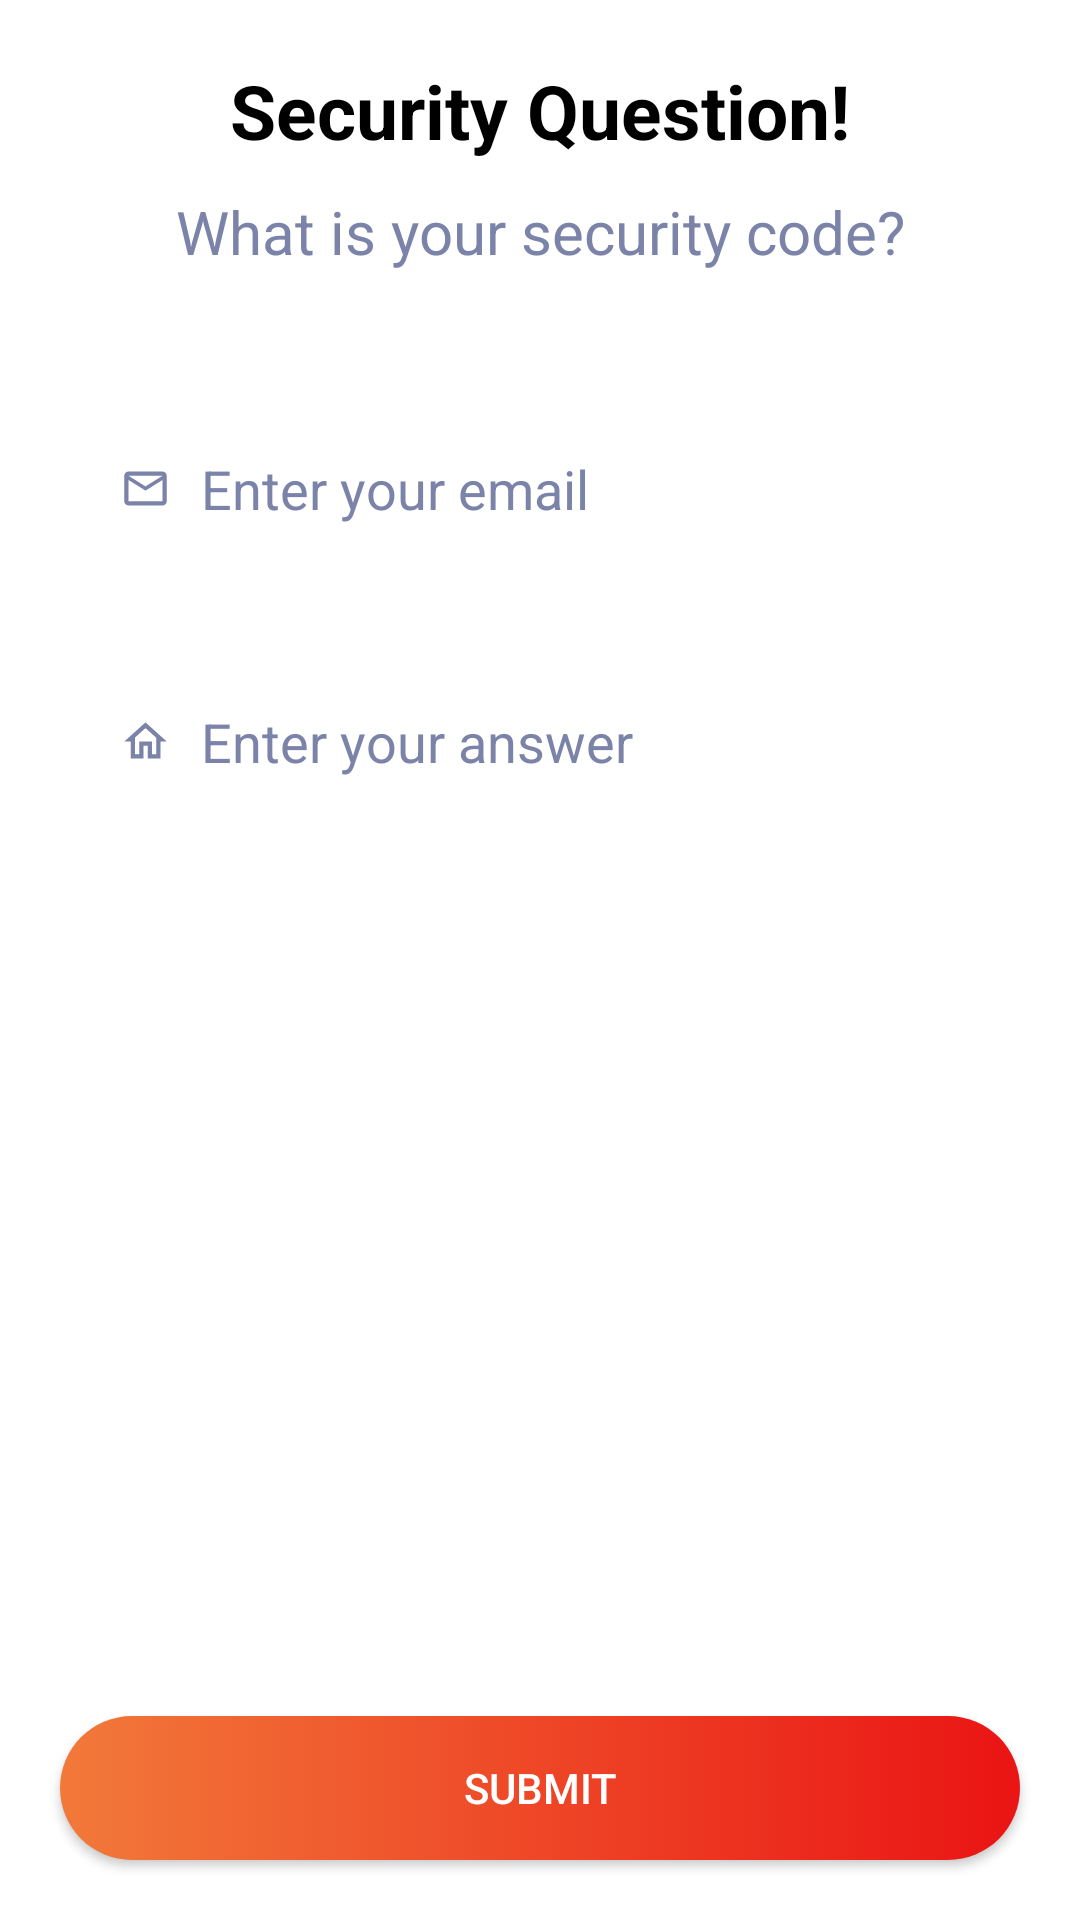

Icons on this 1080 x 1920 Android screen, each with its box as [x1, y1, x2, y2]:
home: [125, 722, 166, 759]
